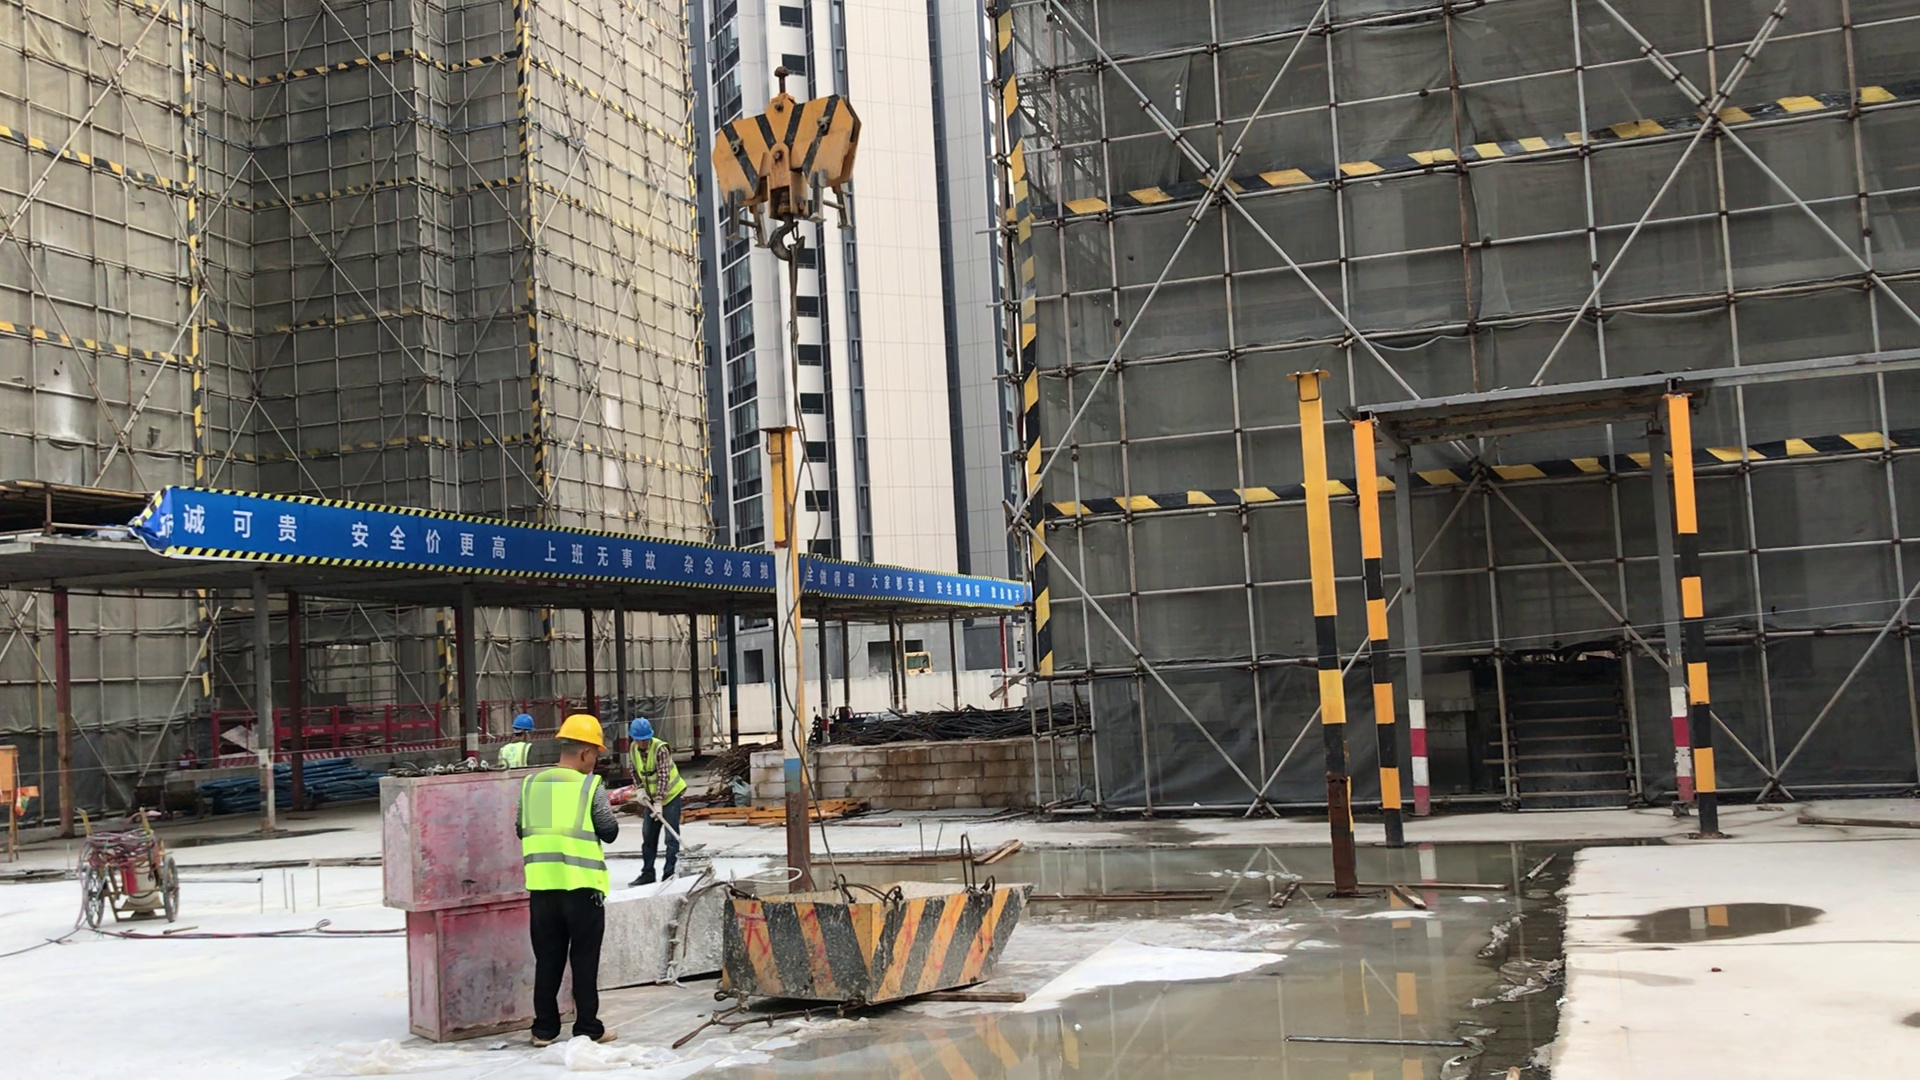fence: (216, 697, 502, 774)
handcart: (77, 811, 182, 938)
helmet: (554, 713, 605, 751), (627, 717, 652, 738), (512, 711, 535, 730)
hook: (713, 69, 862, 257)
hopper: (729, 884, 1036, 999), (598, 865, 748, 1001)
person: (519, 714, 623, 1046), (620, 716, 686, 884), (498, 715, 536, 769)
slogan: (154, 485, 1027, 614)
vest: (521, 767, 611, 893), (628, 737, 686, 809), (499, 740, 530, 769)
